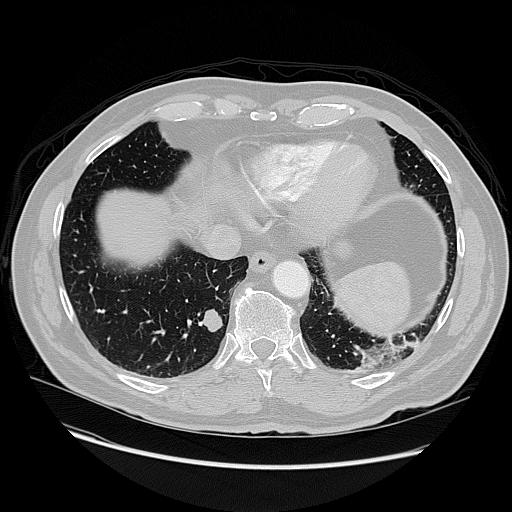nodule: (200, 308, 225, 333)
